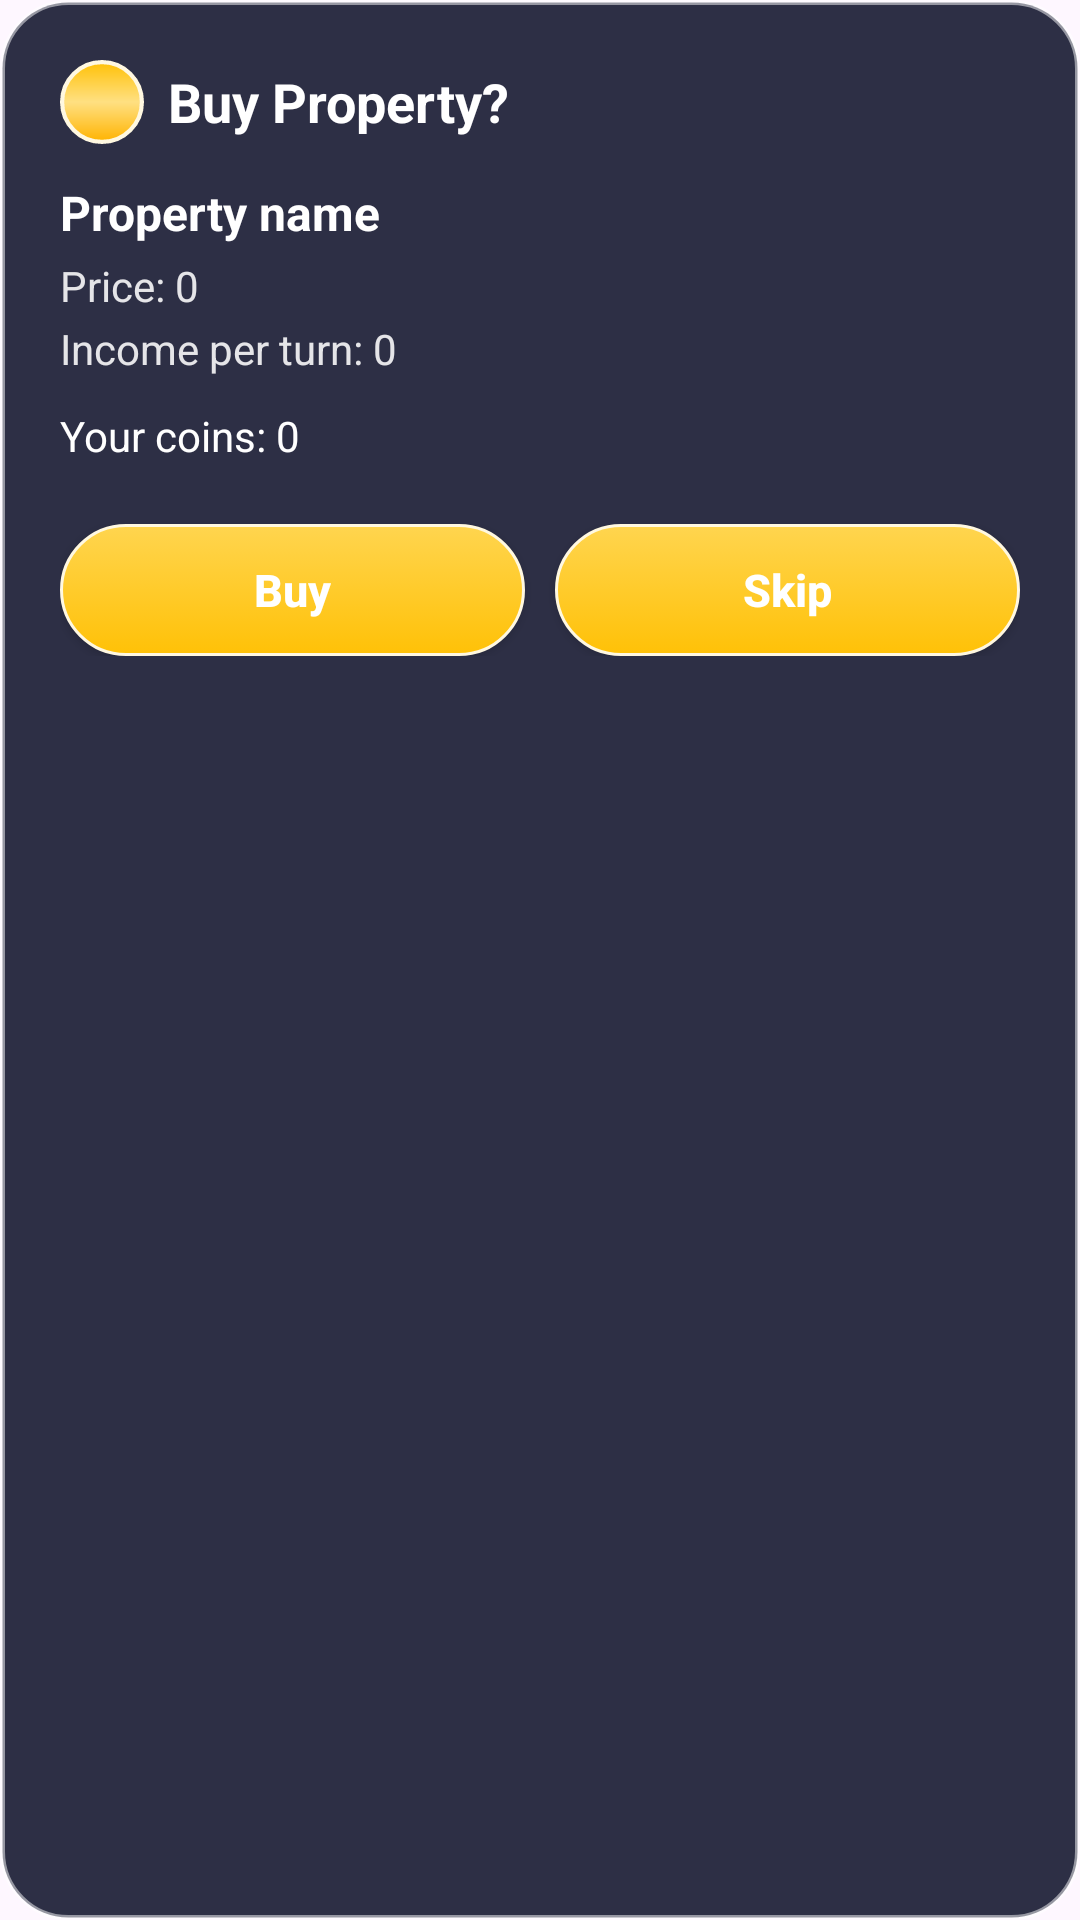

Where icons sit on this 1080 x 1920 app screen, as box(x1, y1, x2, y2):
coin: box(60, 60, 144, 144)
